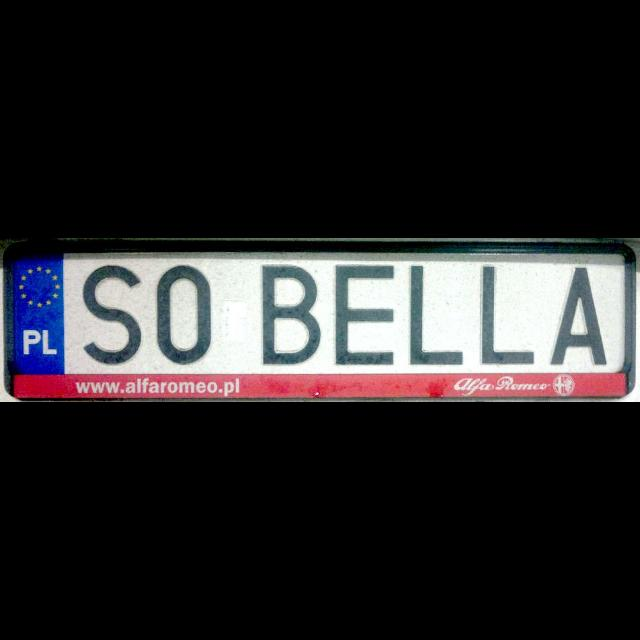pl_license_plate: (10, 253, 626, 374)
